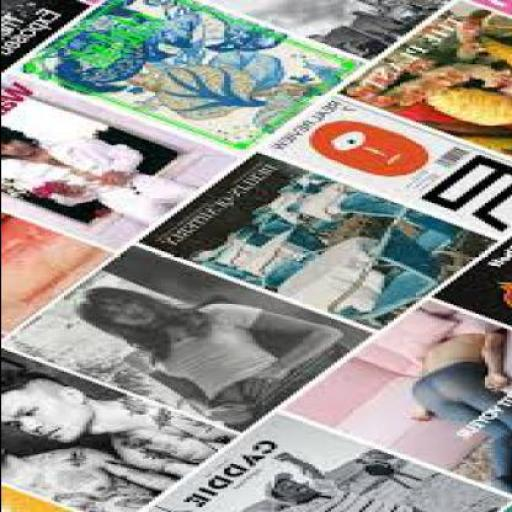paper: (0, 244, 368, 432), (132, 151, 490, 330), (2, 0, 362, 153), (273, 297, 509, 492), (2, 74, 236, 252), (2, 348, 232, 511), (135, 413, 509, 510), (258, 98, 509, 231), (332, 0, 510, 153), (194, 0, 449, 60), (1, 213, 111, 347), (430, 236, 509, 328)
